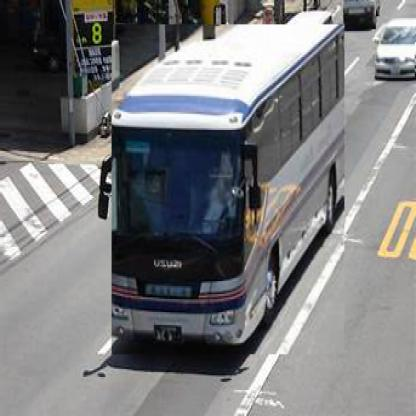bus: (112, 25, 346, 357)
car: (375, 17, 416, 81), (345, 3, 377, 32)
